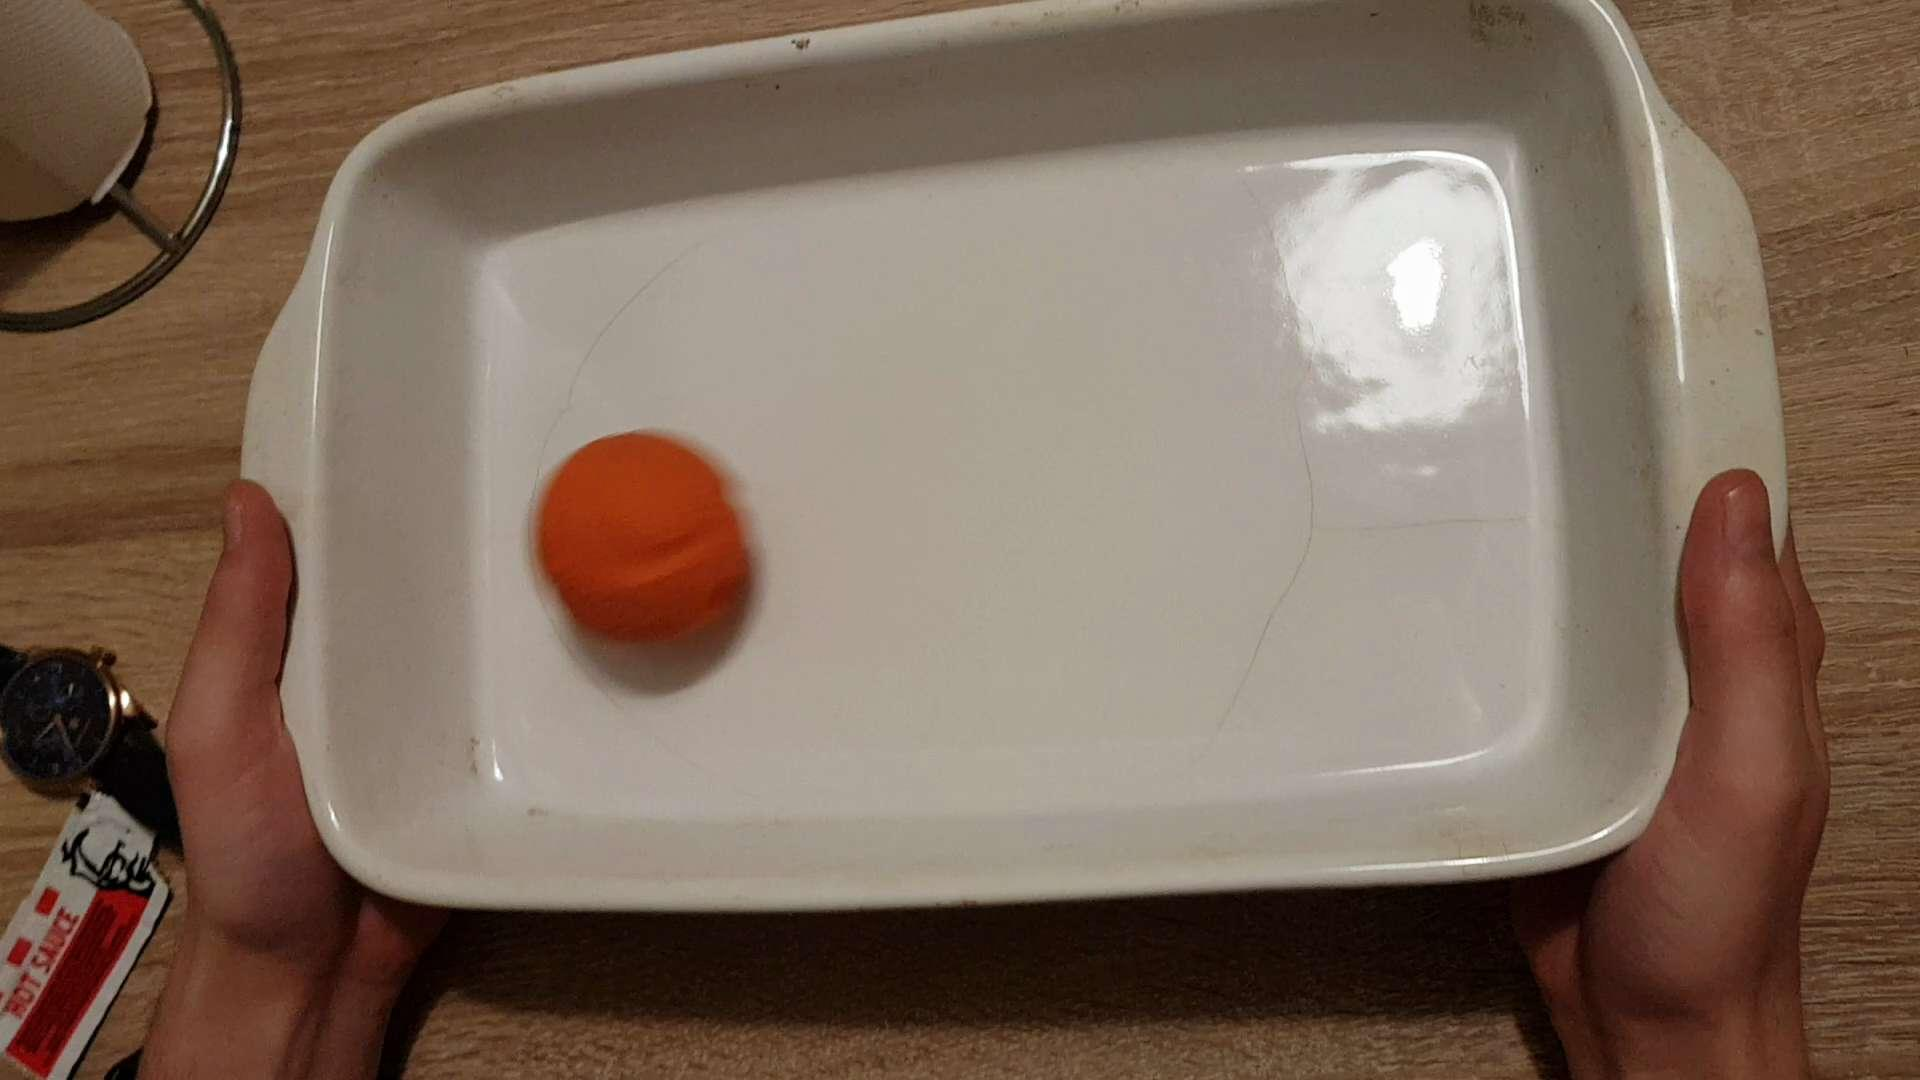Sphere: (533, 429, 756, 649)
